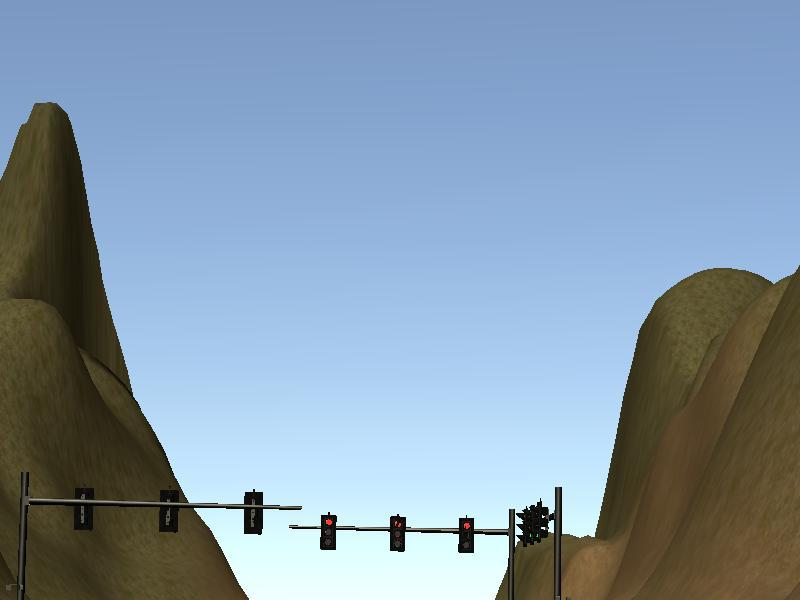Red: (321, 514, 335, 548), (391, 518, 404, 550), (461, 517, 473, 551)
